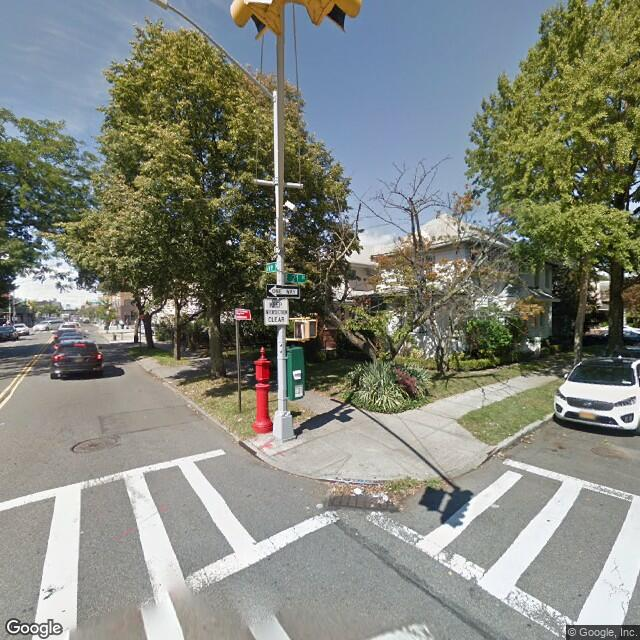litter: (350, 485, 395, 505)
